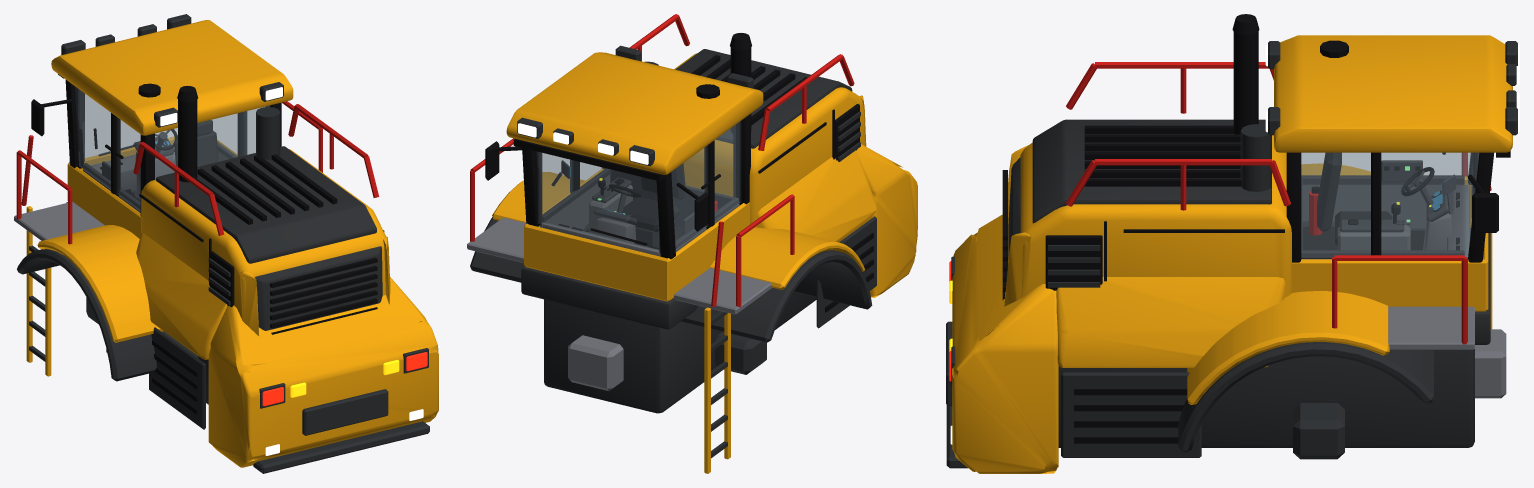
The model's file is rear.glb.
3 views of the same model, side by side, from view 1: azimuth 30°, elevation 25°; view 2: azimuth 150°, elevation 25°; view 3: azimuth 270°, elevation 25° (orthographic). The views are drawn at different scales.
Visible parts, largest first — view 1: RearFrame; view 2: RearFrame; view 3: RearFrame.
Part boxes in pixels (x1=…): RearFrame: x1=14, y1=14, x2=438, y2=473; RearFrame: x1=467, y1=14, x2=917, y2=473; RearFrame: x1=946, y1=14, x2=1519, y2=473.
Bounding box in the file's own units: 4.01 × 4.43 × 5.51.
